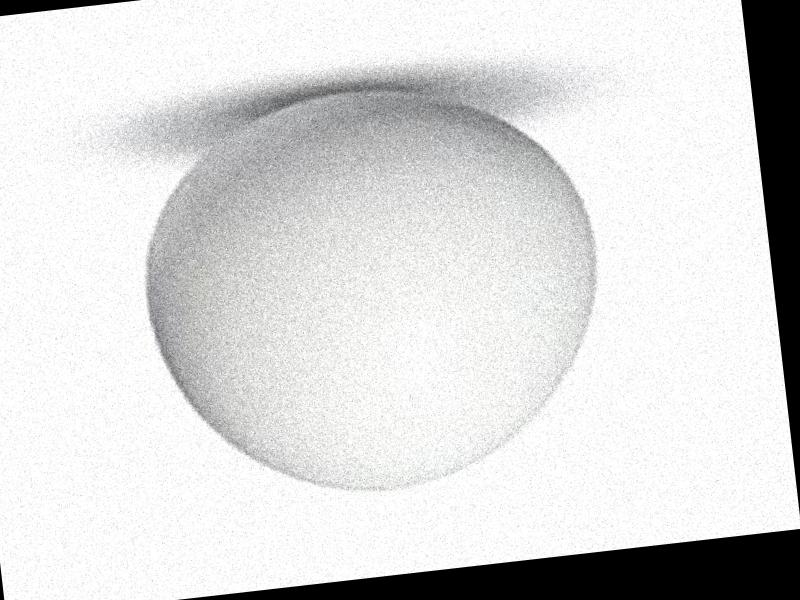Eggs: (134, 68, 617, 516)
